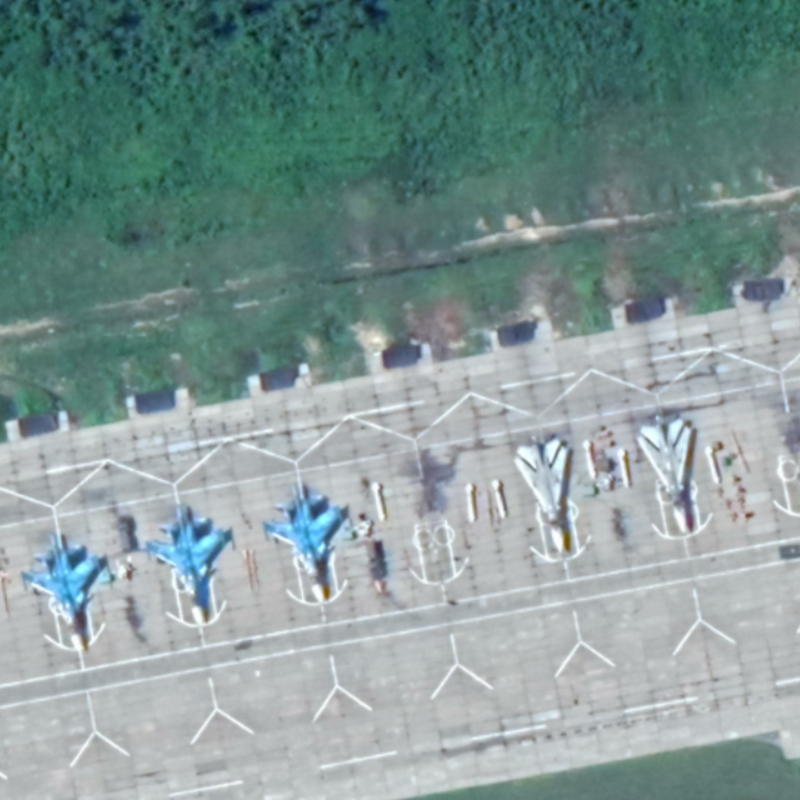A19: (22, 531, 114, 654), (145, 502, 230, 629), (266, 482, 346, 607)
A20: (511, 435, 573, 555), (634, 416, 693, 535)
